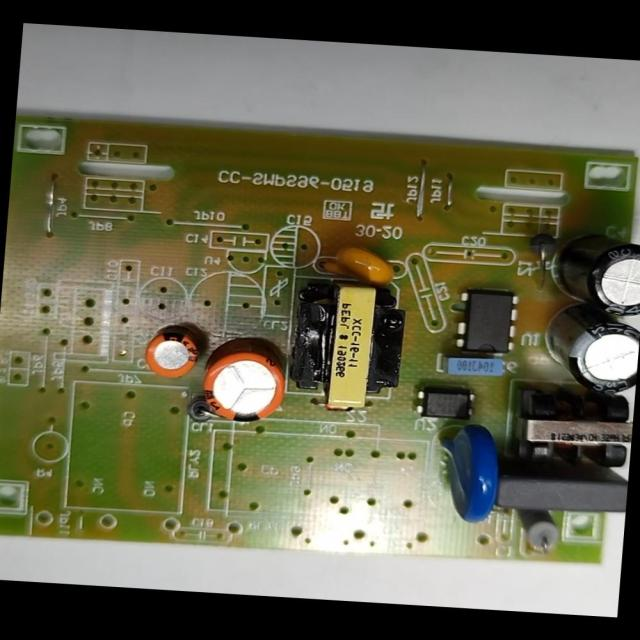Cap1: (194, 346, 291, 426)
Cap2: (139, 327, 201, 380)
Cap3: (537, 308, 639, 400)
Cap4: (542, 231, 640, 316)
MOSFET: (452, 287, 524, 356)
Mov: (429, 419, 506, 527)
Resistor: (506, 505, 570, 559)
Transformer: (283, 279, 409, 414), (499, 388, 634, 473)
